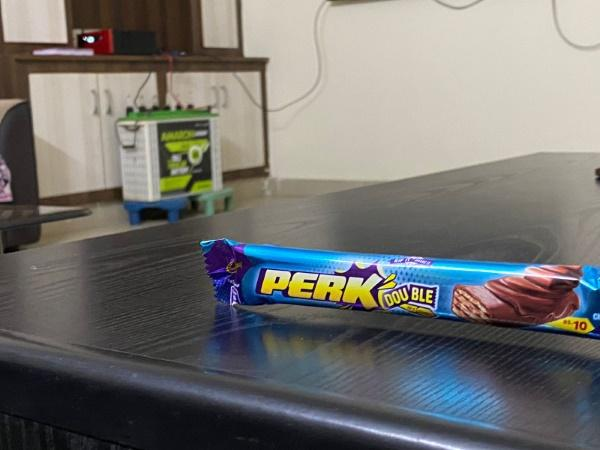Perk: (199, 230, 600, 342)
